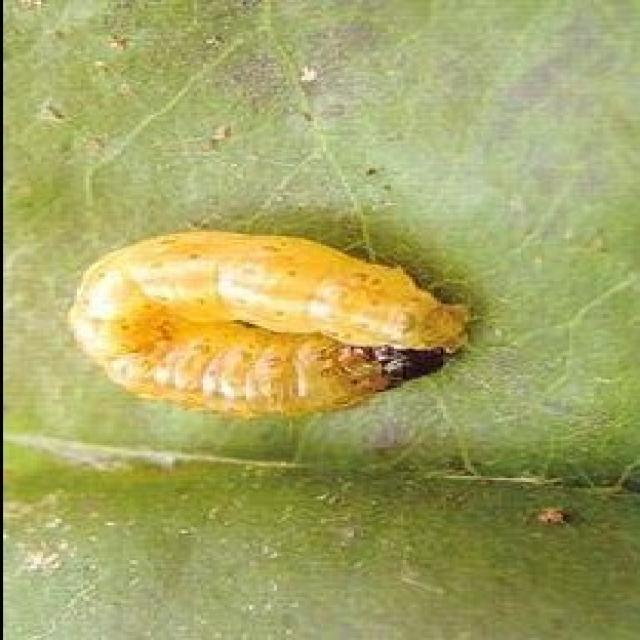peach borer: (66, 227, 472, 424)
